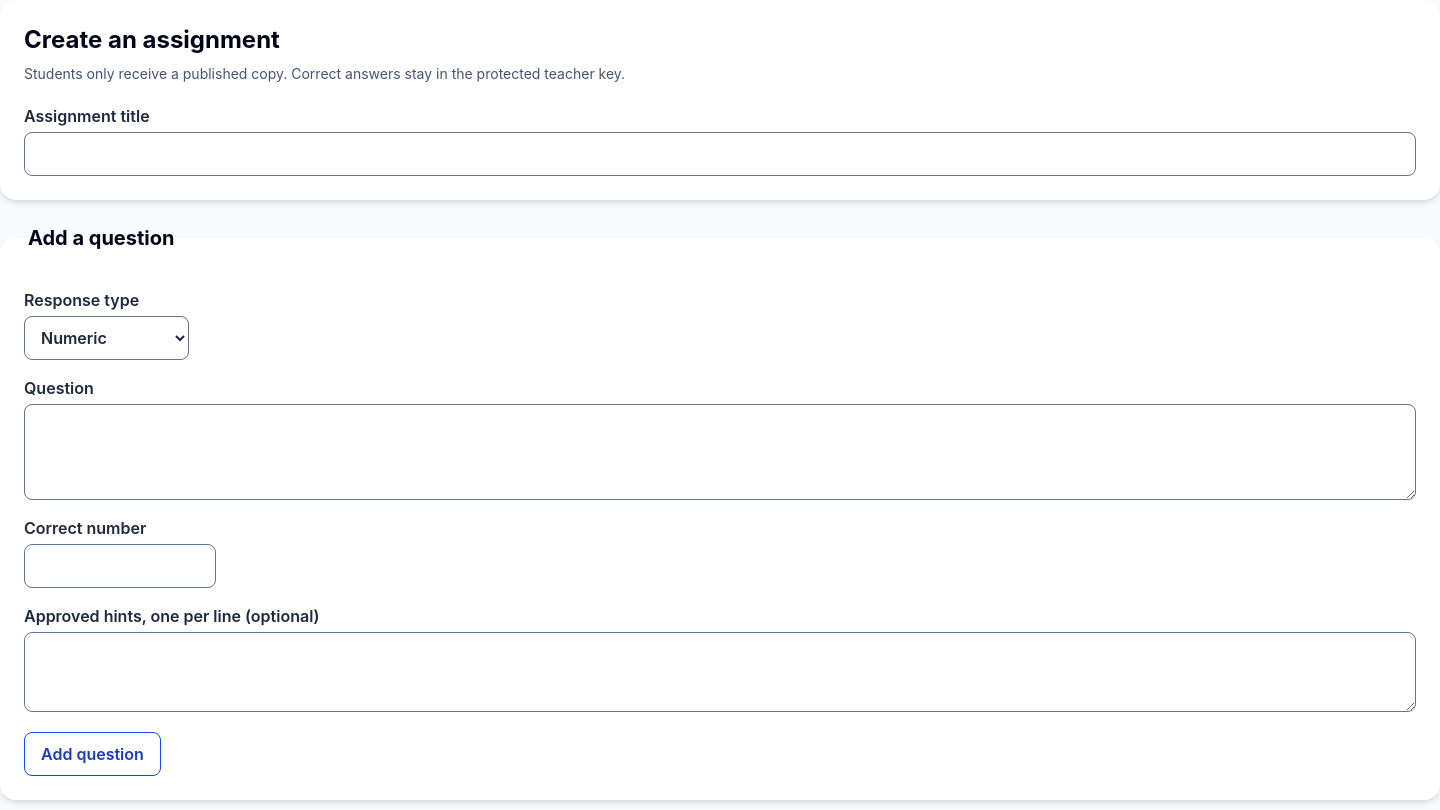
Test: AssignmentAuthoringForm › allows removing a question before publication
Type "What is 6 × 8?" into the text box labelled "Question" at (720, 452), box [24, 404, 1416, 500]
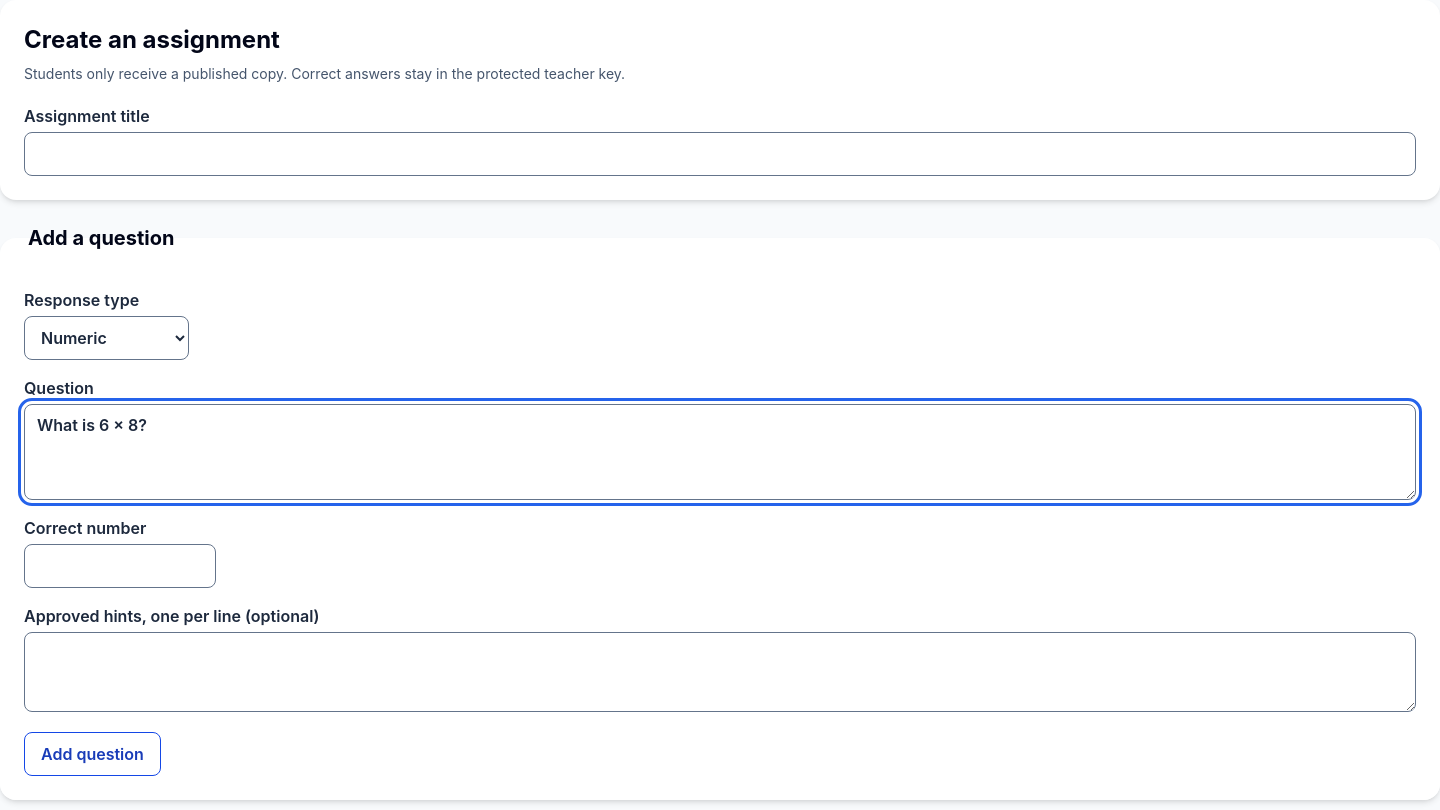
Type "48" into the number field labelled "Correct number" at (120, 566), box [24, 544, 216, 588]
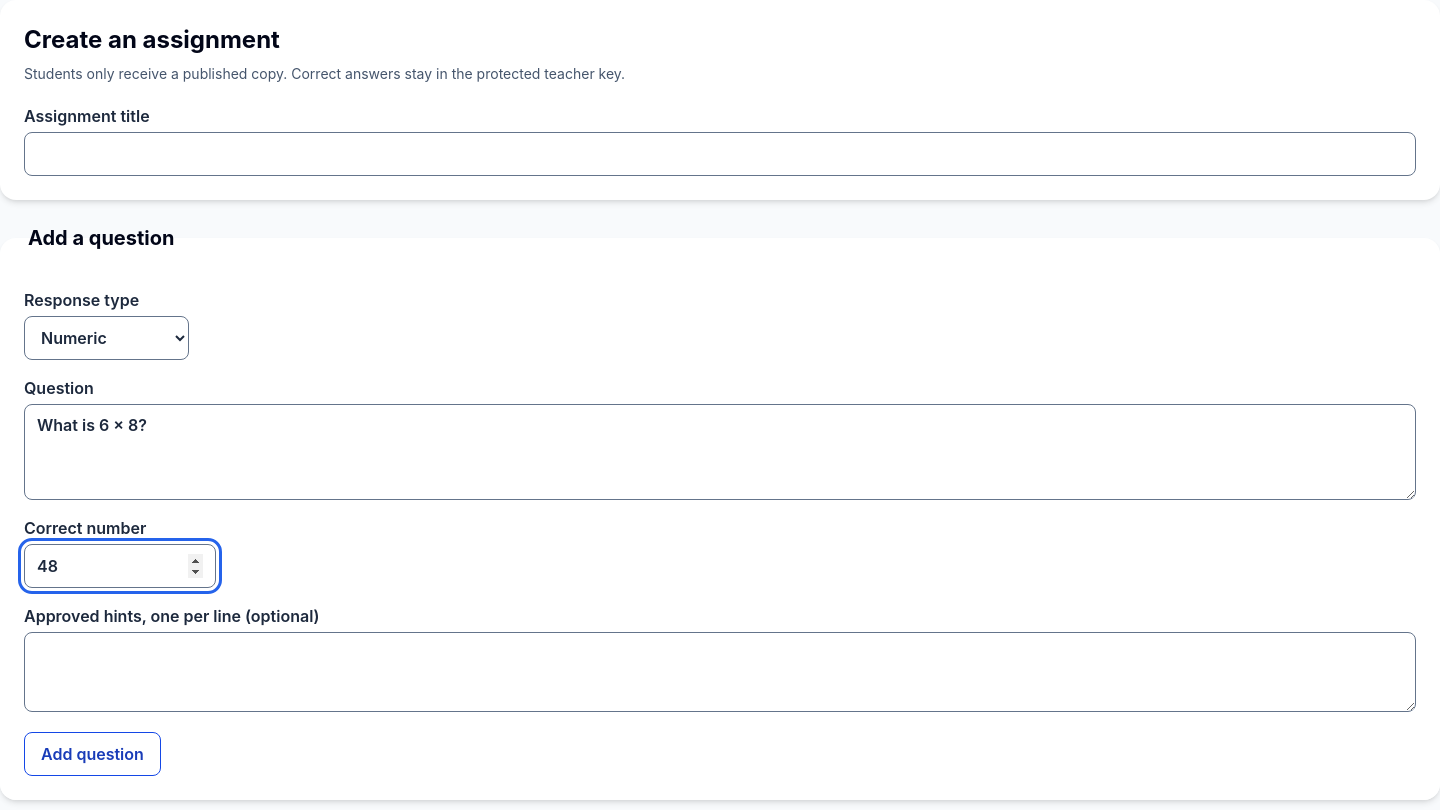
Click the button "Add question" at (92, 754), box [24, 732, 161, 776]
(page scrolled)
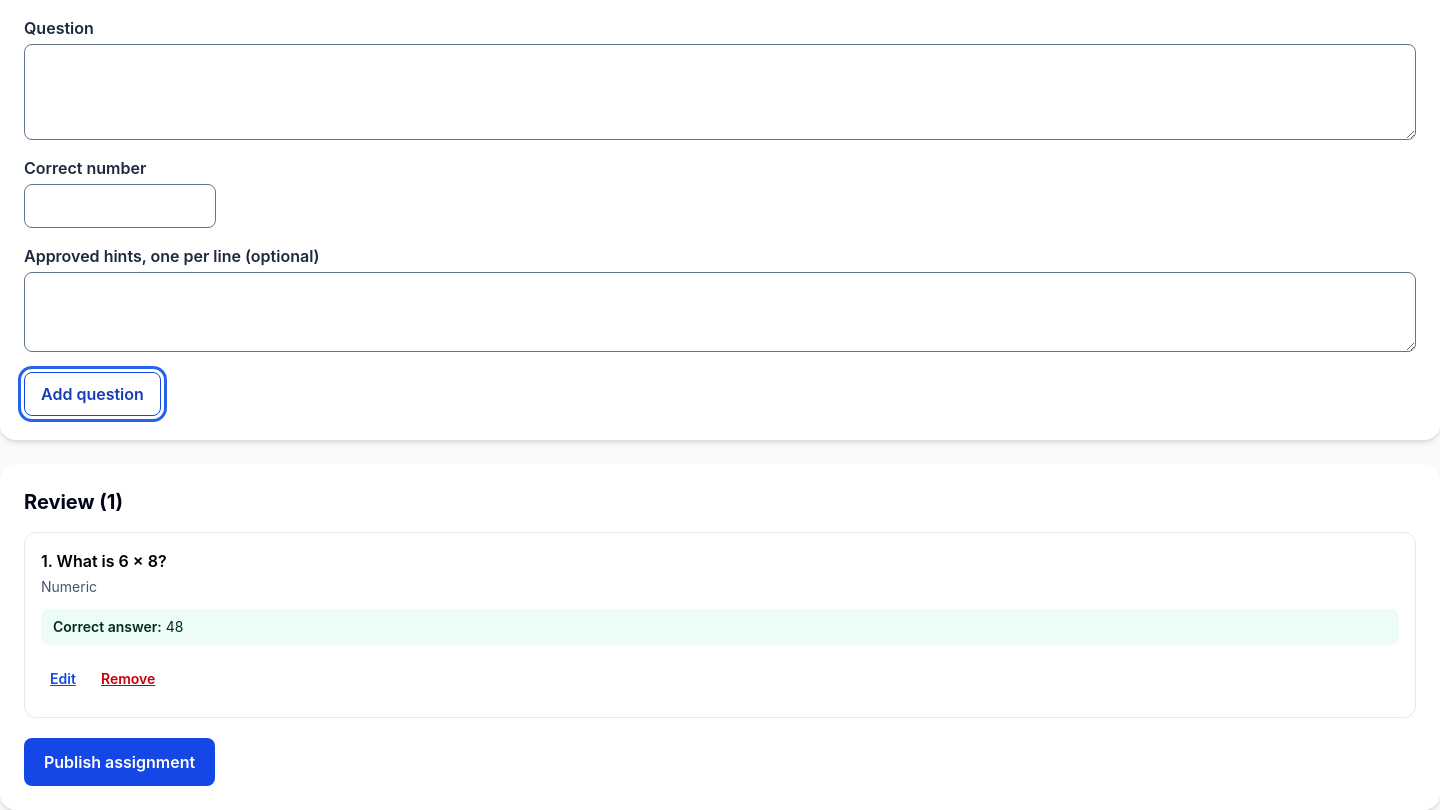
Expected: the heading "Review (1)" is shown, [24, 490, 123, 514]
Click the button named "Remove question 1" at (128, 679), box [101, 657, 155, 701]
(page scrolled)
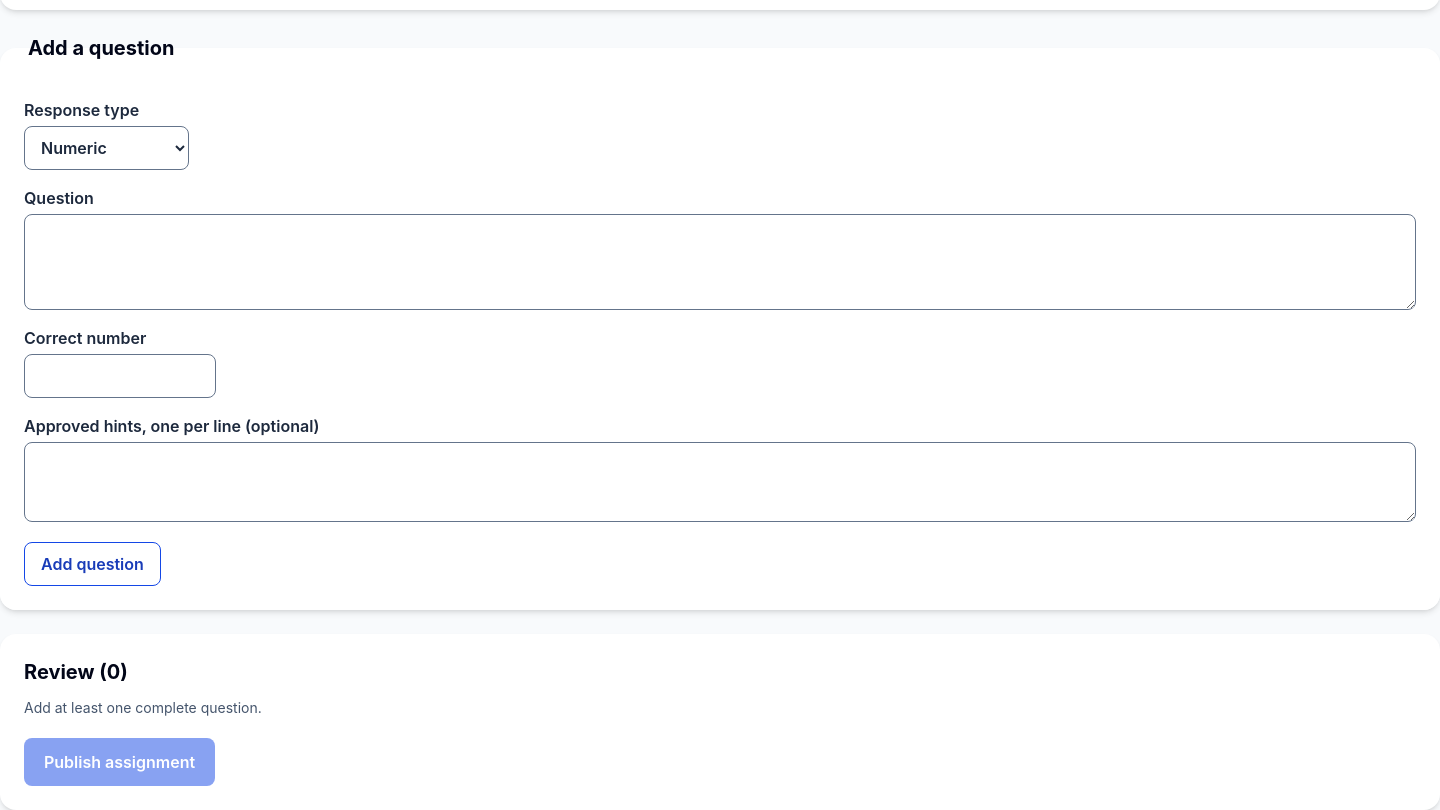
Expected: the heading "Review (0)" is shown, [24, 660, 128, 684]
Expected: the button "Publish assignment" is disabled, [24, 738, 215, 786]
